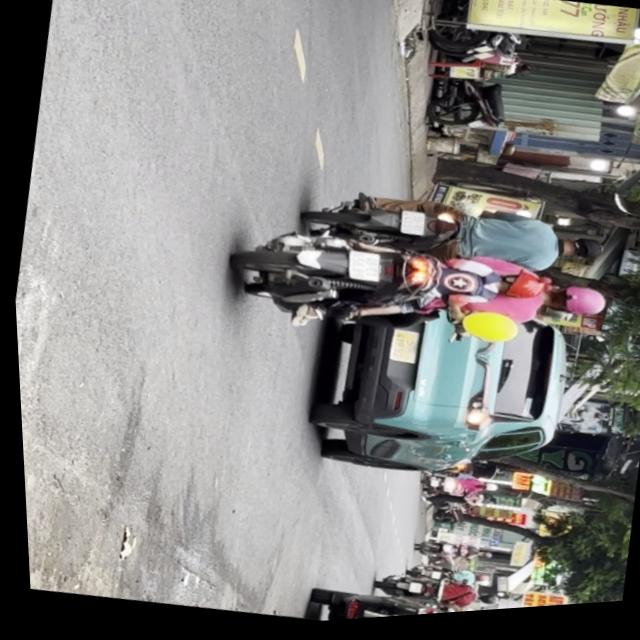helmet: (478, 266, 546, 314), (537, 285, 606, 330)
licenseplate: (217, 211, 612, 385), (296, 170, 608, 301)
motorcyclist: (555, 239, 603, 273)
nohelmet: (342, 253, 379, 288), (395, 214, 423, 241)
